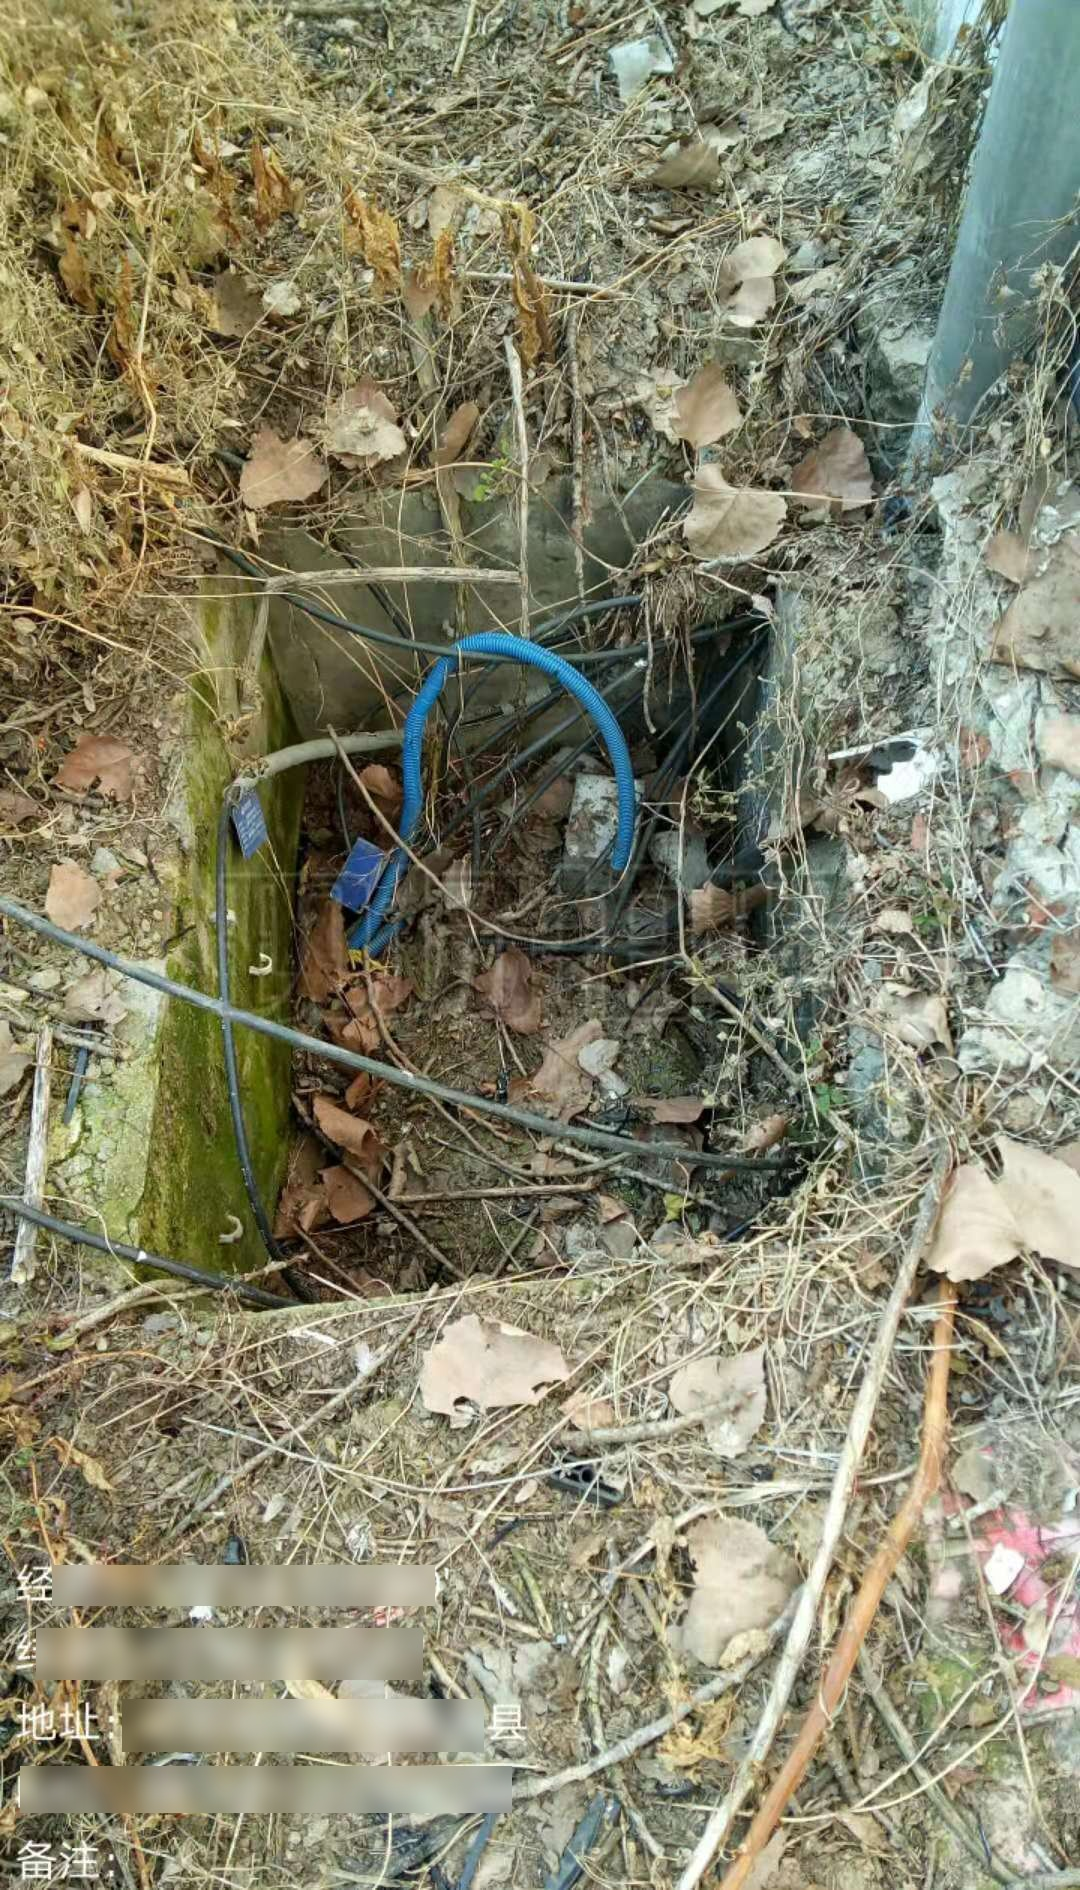lose: (129, 482, 939, 1332)
